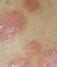plaque psoriasis: (15, 1, 57, 67), (0, 0, 39, 41), (8, 40, 39, 67)
